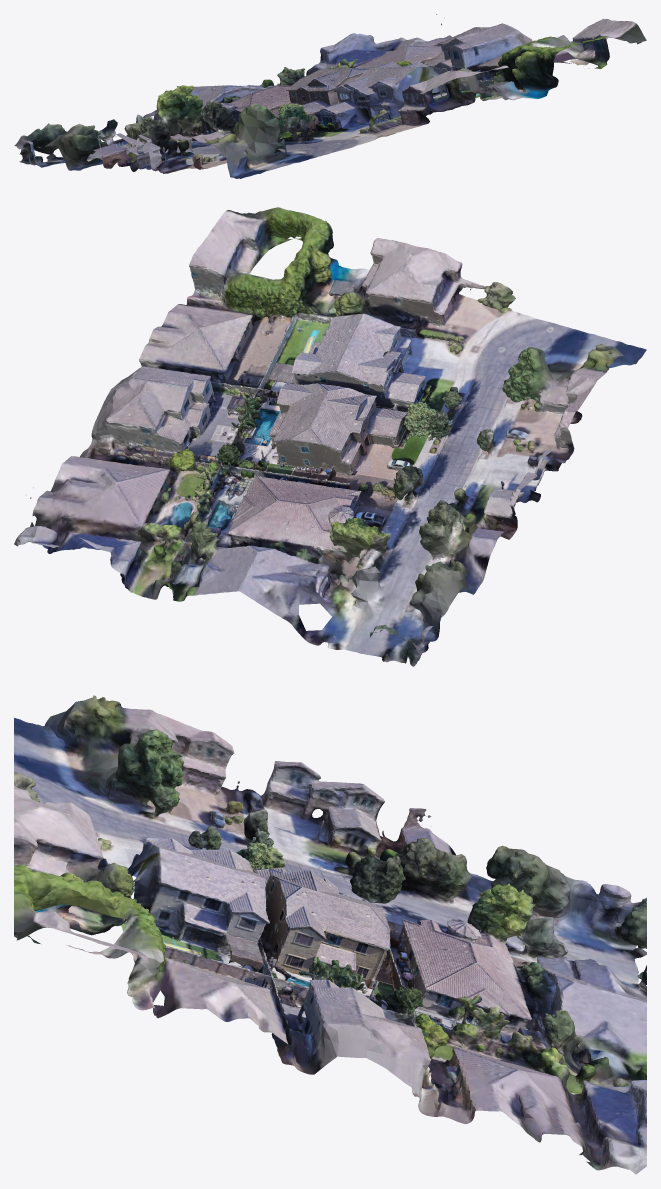
File: house.glb
3 renders of one model, top to bottom at view 1: azimuth 30°, elevation 25°; view 2: azimuth 150°, elevation 25°; view 3: azimuth 270°, elevation 25°, orthographic. The views are drawn at different scales.
Size of the model in its own units: 92.66 by 44.79 by 89.57.
1 material, 1 textured.
